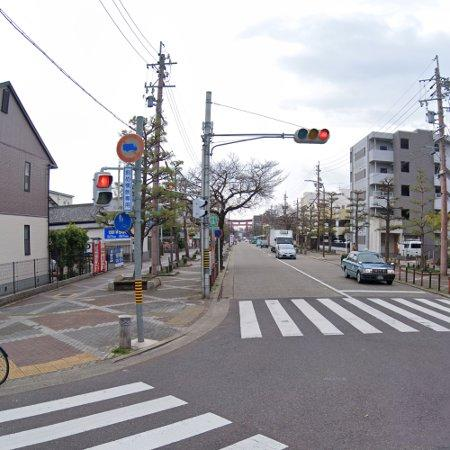traffic lights: (93, 172, 113, 207)
